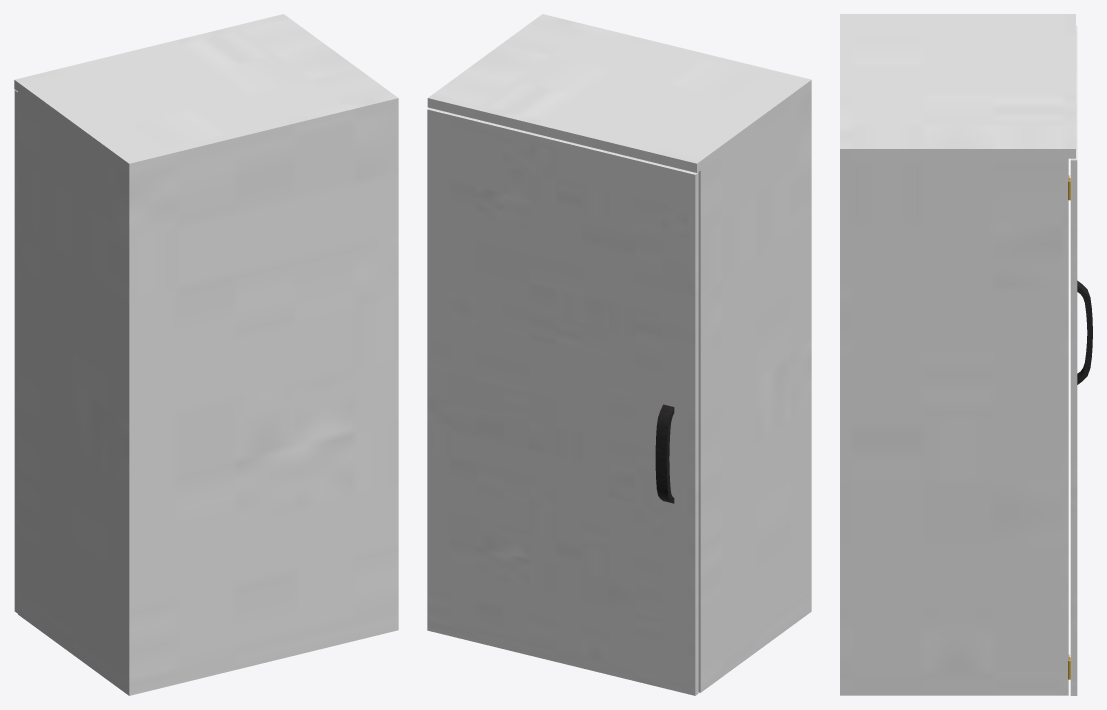
The model's file is Closet44.glb.
The picture shows the model from 3 angles, left to right: view 1: azimuth 30°, elevation 25°; view 2: azimuth 150°, elevation 25°; view 3: azimuth 270°, elevation 25°; orthographic projection. The views are drawn at different scales.
Parts seen in each view (by area): view 1: Closet44_model, Closet44Door; view 2: Closet44Door, Closet44_model; view 3: Closet44_model, Closet44Door.
Part boxes in pixels (x1=…): Closet44_model: x1=14, y1=14, x2=398, y2=695; Closet44Door: x1=14, y1=90, x2=17, y2=613; Closet44Door: x1=427, y1=108, x2=698, y2=695; Closet44_model: x1=427, y1=14, x2=811, y2=692; Closet44_model: x1=840, y1=14, x2=1075, y2=695; Closet44Door: x1=1068, y1=25, x2=1092, y2=695.
Bounding box in the file's own units: 1.38 × 2.58 × 1.08.
1 material, 1 textured.
